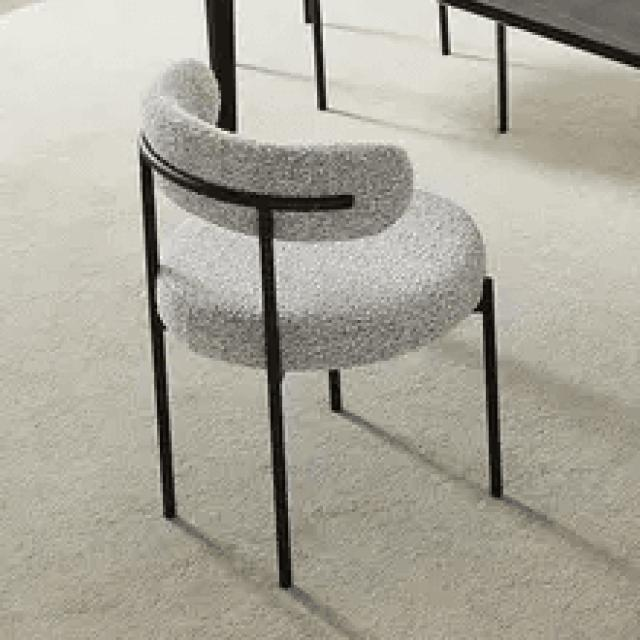chair: (131, 54, 512, 586), (122, 55, 486, 374)
